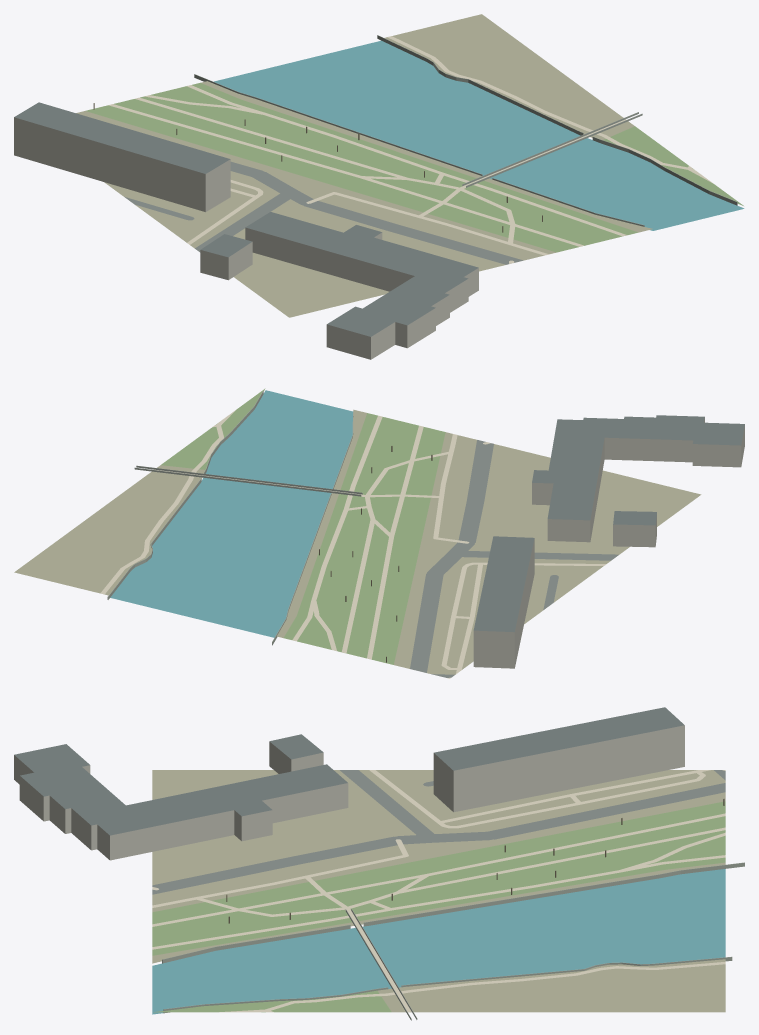
Rendered from sector--3_-2.glb.
3 views of the same model, one above another, from view 1: azimuth 30°, elevation 25°; view 2: azimuth 150°, elevation 25°; view 3: azimuth 270°, elevation 25° (orthographic). The views are drawn at different scales.
Parts seen in each view (by area): view 1: -3:-2-water, -3:-2-ground, -3:-2-park, -3:-2-facade, -3:-2-roof, -3:-2-paving, -3:-2-road, -3:-2-bank; view 2: -3:-2-ground, -3:-2-water, -3:-2-park, -3:-2-roof, -3:-2-facade, -3:-2-paving, -3:-2-road, -3:-2-bank; view 3: -3:-2-ground, -3:-2-water, -3:-2-park, -3:-2-facade, -3:-2-roof, -3:-2-paving, -3:-2-road, -3:-2-bank.
Part boxes in pixels (x1=…): -3:-2-water: x1=214, y1=40, x2=744, y2=230; -3:-2-ground: x1=76, y1=14, x2=652, y2=317; -3:-2-park: x1=85, y1=83, x2=743, y2=252; -3:-2-facade: x1=14, y1=117, x2=478, y2=359; -3:-2-roof: x1=14, y1=102, x2=478, y2=336; -3:-2-paving: x1=108, y1=36, x2=713, y2=263; -3:-2-road: x1=124, y1=161, x2=523, y2=264; -3:-2-bank: x1=194, y1=35, x2=737, y2=226; -3:-2-ground: x1=14, y1=409, x2=701, y2=674; -3:-2-water: x1=110, y1=390, x2=353, y2=637; -3:-2-park: x1=161, y1=388, x2=445, y2=664; -3:-2-roof: x1=473, y1=415, x2=744, y2=632; -3:-2-facade: x1=473, y1=417, x2=744, y2=668; -3:-2-paving: x1=100, y1=409, x2=605, y2=678; -3:-2-road: x1=410, y1=440, x2=618, y2=677; -3:-2-bank: x1=107, y1=391, x2=362, y2=645; -3:-2-ground: x1=152, y1=770, x2=725, y2=1012; -3:-2-water: x1=152, y1=869, x2=725, y2=1014; -3:-2-park: x1=152, y1=801, x2=725, y2=1012; -3:-2-facade: x1=14, y1=725, x2=684, y2=860; -3:-2-roof: x1=14, y1=707, x2=684, y2=835; -3:-2-paving: x1=152, y1=770, x2=725, y2=1012; -3:-2-road: x1=152, y1=770, x2=725, y2=894; -3:-2-bank: x1=162, y1=862, x2=744, y2=1020.
Bounding box in the file's own units: 225 × 16.85 × 255.
